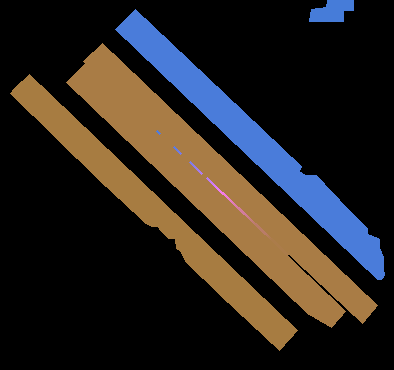parkingspot: (83, 43, 377, 323), (10, 74, 297, 350), (66, 63, 345, 327), (115, 9, 384, 279), (309, 0, 353, 21)
